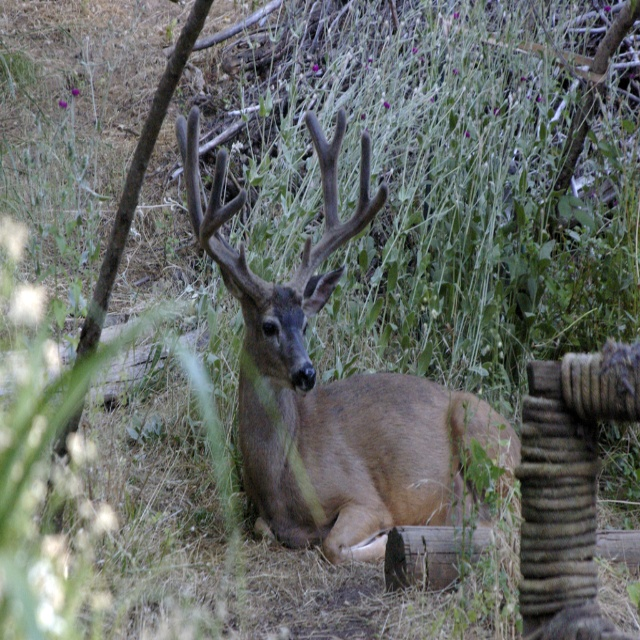Deer: (174, 105, 522, 565)
